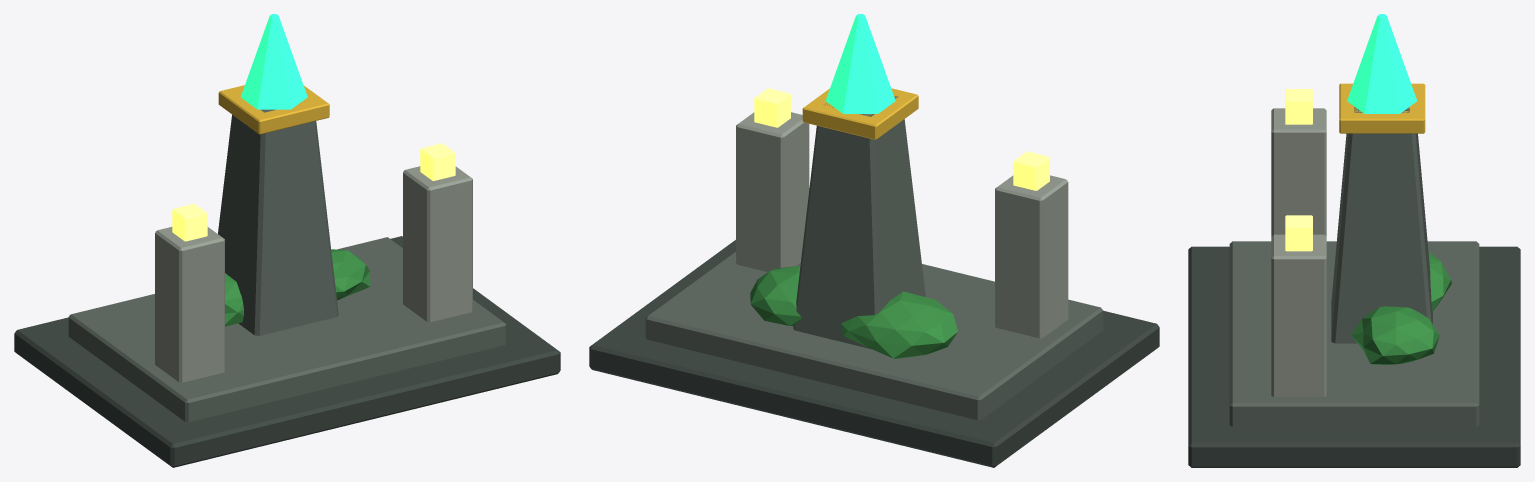
The model's file is EM_MossbackShrine.glb.
3 renders of one model, left to right at view 1: azimuth 30°, elevation 25°; view 2: azimuth 150°, elevation 25°; view 3: azimuth 270°, elevation 25°, orthographic. The views are drawn at different scales.
Visible parts, largest first — view 1: EM_MossbackShrine__StoneBase, EM_MossbackShrine__StoneDark, EM_MossbackShrine__StoneLight, EM_MossbackShrine__JadeGlow, EM_MossbackShrine__GoldTrim, EM_MossbackShrine__WarmGlow, EM_MossbackShrine__MossCap; view 2: EM_MossbackShrine__StoneBase, EM_MossbackShrine__StoneDark, EM_MossbackShrine__StoneLight, EM_MossbackShrine__MossCap, EM_MossbackShrine__JadeGlow, EM_MossbackShrine__GoldTrim, EM_MossbackShrine__WarmGlow; view 3: EM_MossbackShrine__StoneBase, EM_MossbackShrine__StoneDark, EM_MossbackShrine__StoneLight, EM_MossbackShrine__MossCap, EM_MossbackShrine__JadeGlow, EM_MossbackShrine__GoldTrim, EM_MossbackShrine__WarmGlow.
Boxes of the visible parts, box(x1,y1,x2,y2) form: EM_MossbackShrine__StoneBase: box(68, 109, 506, 422); EM_MossbackShrine__StoneDark: box(14, 236, 560, 467); EM_MossbackShrine__StoneLight: box(155, 166, 472, 382); EM_MossbackShrine__JadeGlow: box(241, 14, 307, 109); EM_MossbackShrine__GoldTrim: box(218, 85, 329, 134); EM_MossbackShrine__WarmGlow: box(172, 143, 455, 241); EM_MossbackShrine__MossCap: box(225, 249, 370, 326); EM_MossbackShrine__StoneBase: box(645, 96, 1103, 420); EM_MossbackShrine__StoneDark: box(589, 240, 1159, 467); EM_MossbackShrine__StoneLight: box(736, 112, 1068, 338); EM_MossbackShrine__MossCap: box(750, 265, 957, 358); EM_MossbackShrine__JadeGlow: box(825, 14, 895, 113); EM_MossbackShrine__GoldTrim: box(802, 88, 918, 139); EM_MossbackShrine__WarmGlow: box(754, 88, 1049, 190); EM_MossbackShrine__StoneBase: box(1229, 107, 1479, 426); EM_MossbackShrine__StoneDark: box(1188, 246, 1520, 467); EM_MossbackShrine__StoneLight: box(1271, 108, 1326, 396); EM_MossbackShrine__MossCap: box(1351, 252, 1451, 364); EM_MossbackShrine__JadeGlow: box(1347, 14, 1417, 113); EM_MossbackShrine__GoldTrim: box(1339, 83, 1425, 133); EM_MossbackShrine__WarmGlow: box(1285, 89, 1312, 251).
Size of the model in its own units: 34 by 28.2 by 24.
